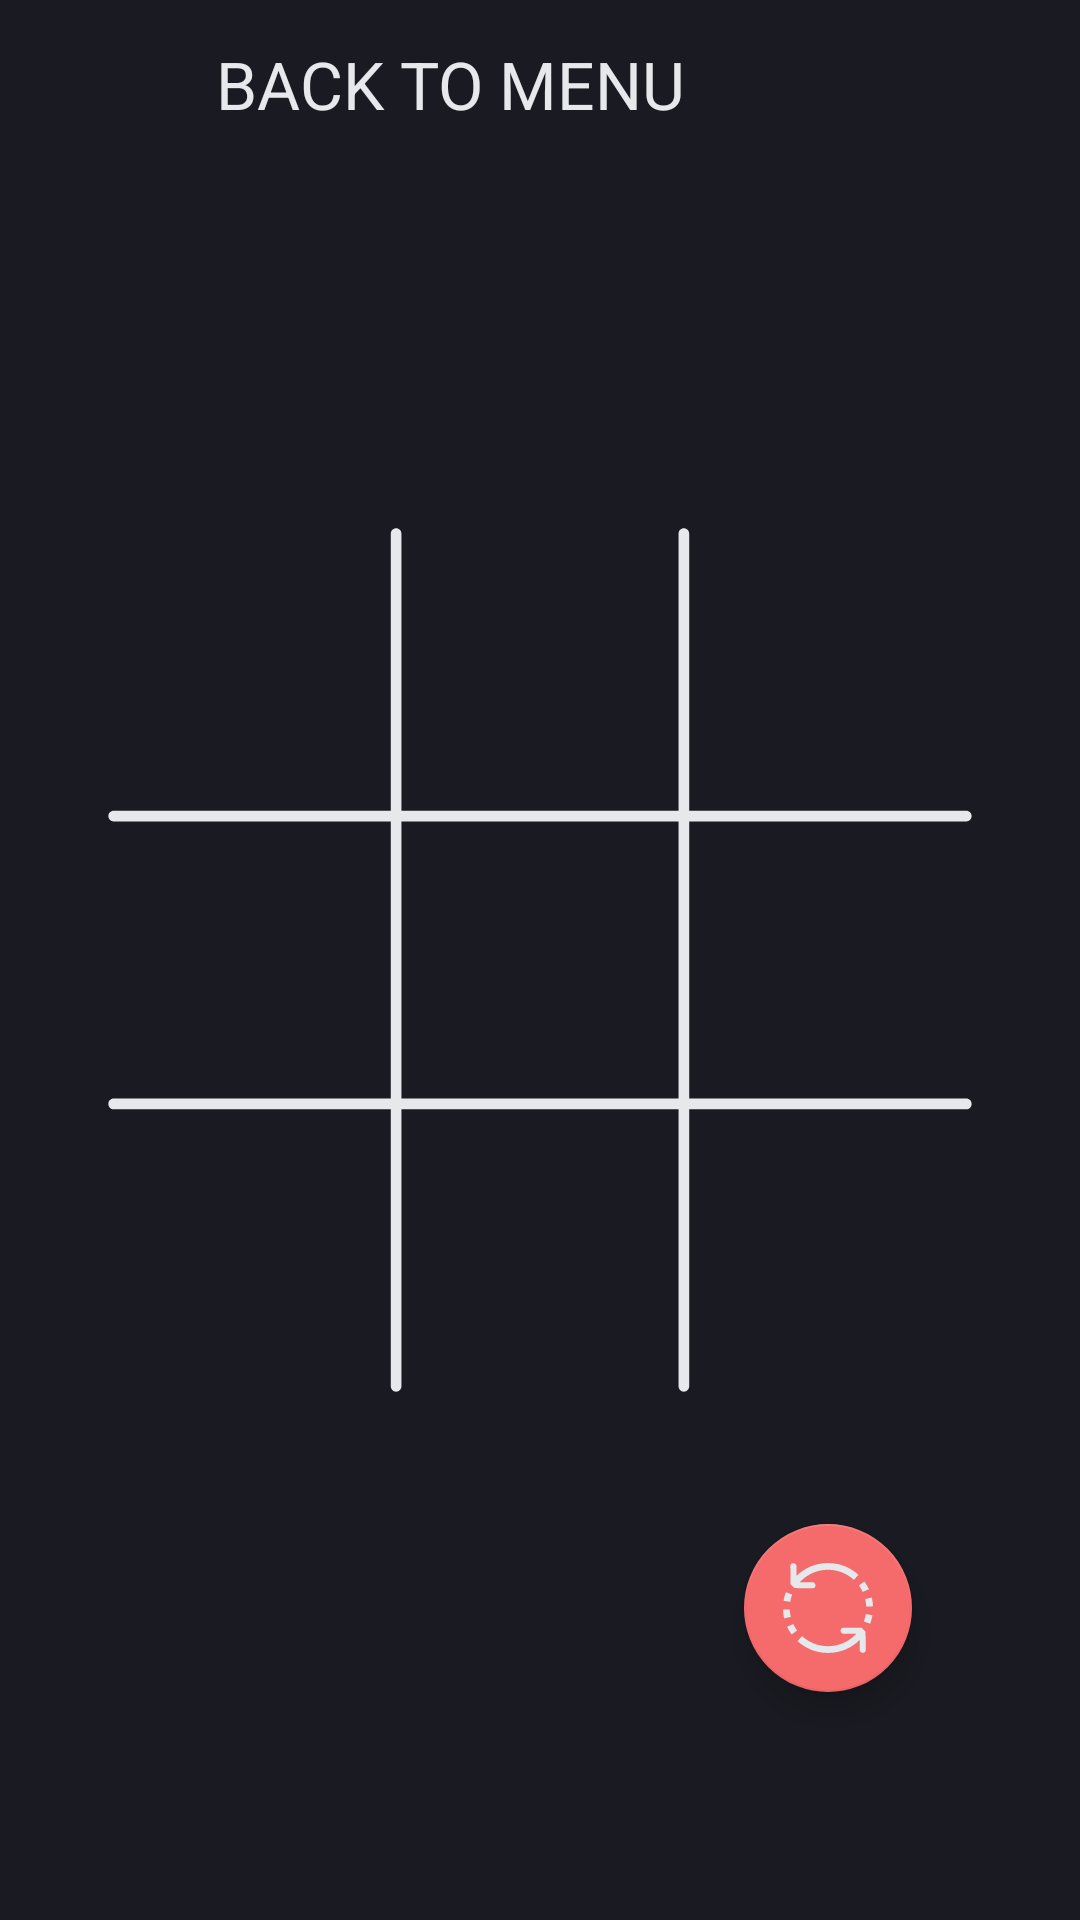

Point at icon controls on the screen. Image size 1080×1920, points as (x=x, y=y).
restart game: (x=828, y=1608)
